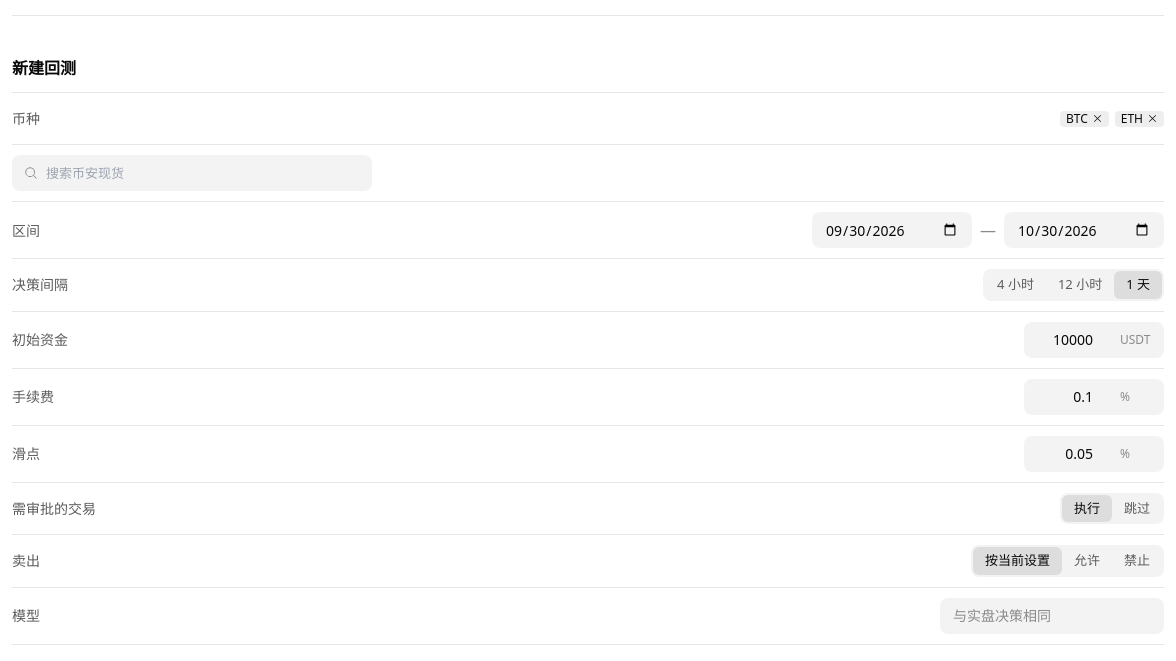
Backtest › blocks windows that are too long
Click the button "4 小时" at (1016, 285), box left=985, top=271, right=1046, bottom=298
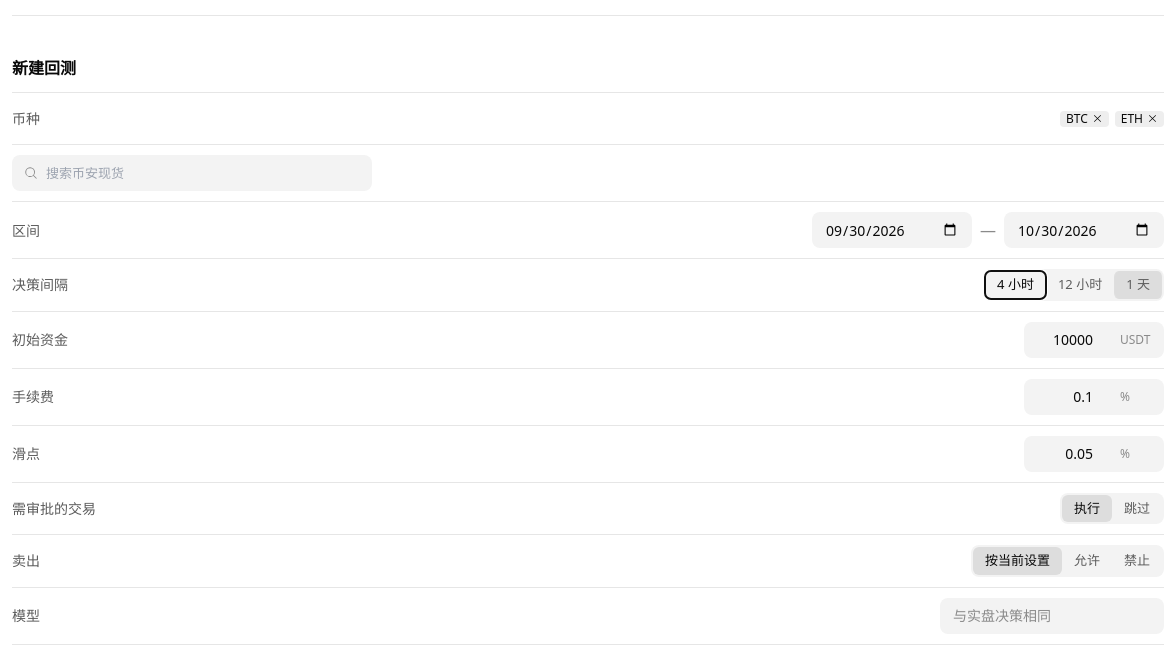
Type "2024-01-01" into the date field named "开始日期" at (892, 230), box left=812, top=212, right=972, bottom=248
(page scrolled)
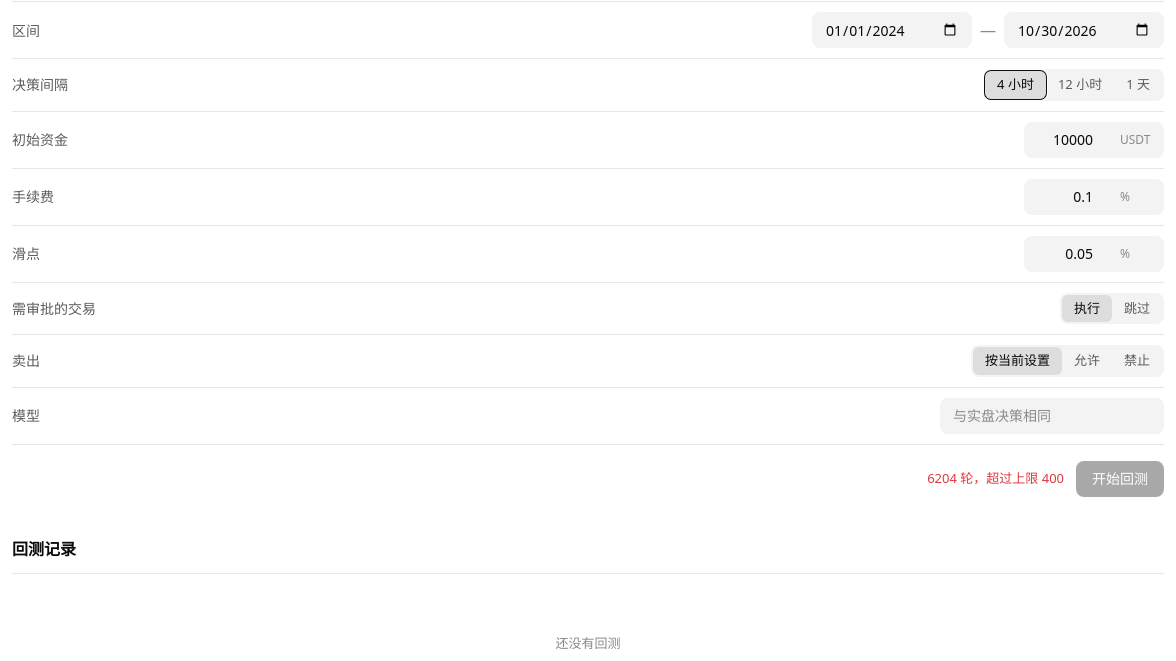
Expected: the text "6204 轮，超过上限 400" is shown, left=927, top=469, right=1064, bottom=488
Expected: the button "开始回测" is disabled, left=1076, top=460, right=1164, bottom=496
